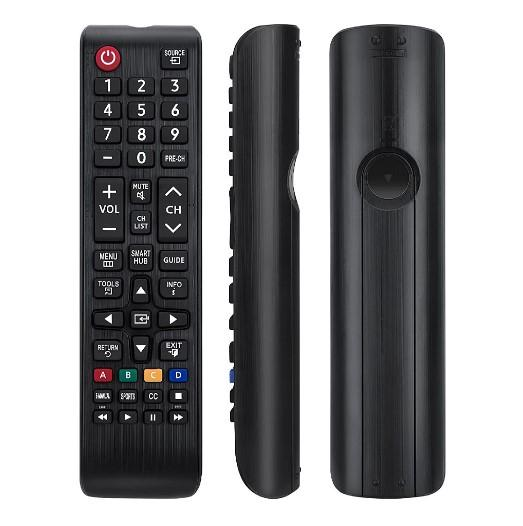Remote control: (78, 25, 205, 501), (326, 24, 447, 501), (229, 24, 306, 503)
